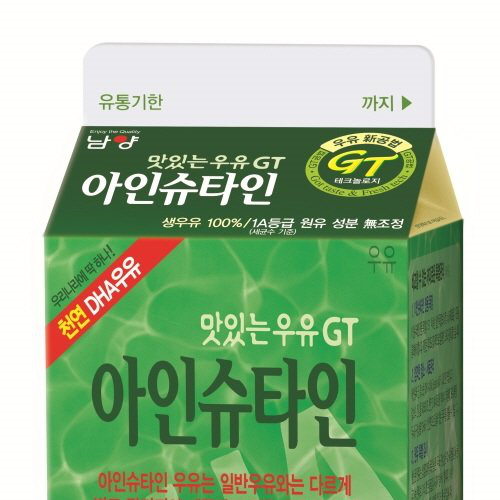milk: (42, 42, 466, 500)
